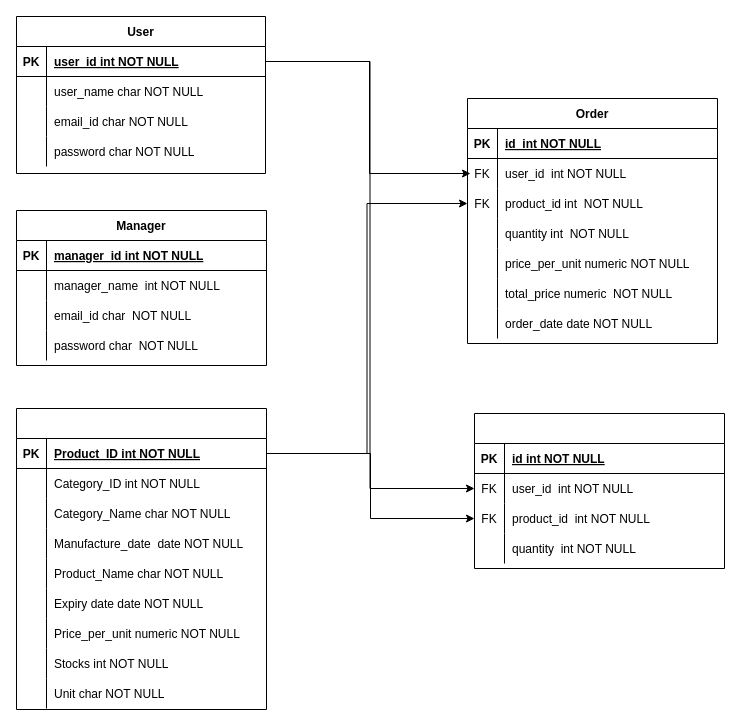
This 741x726 diagram has some shape labels left out. The shapes that lost their labels are listed below. From the top down, each one's box as (x1, y1, x2, y2) in pixels, then its label:
(474, 412, 724, 568): Cart
(16, 408, 266, 710): InventoryProduct
